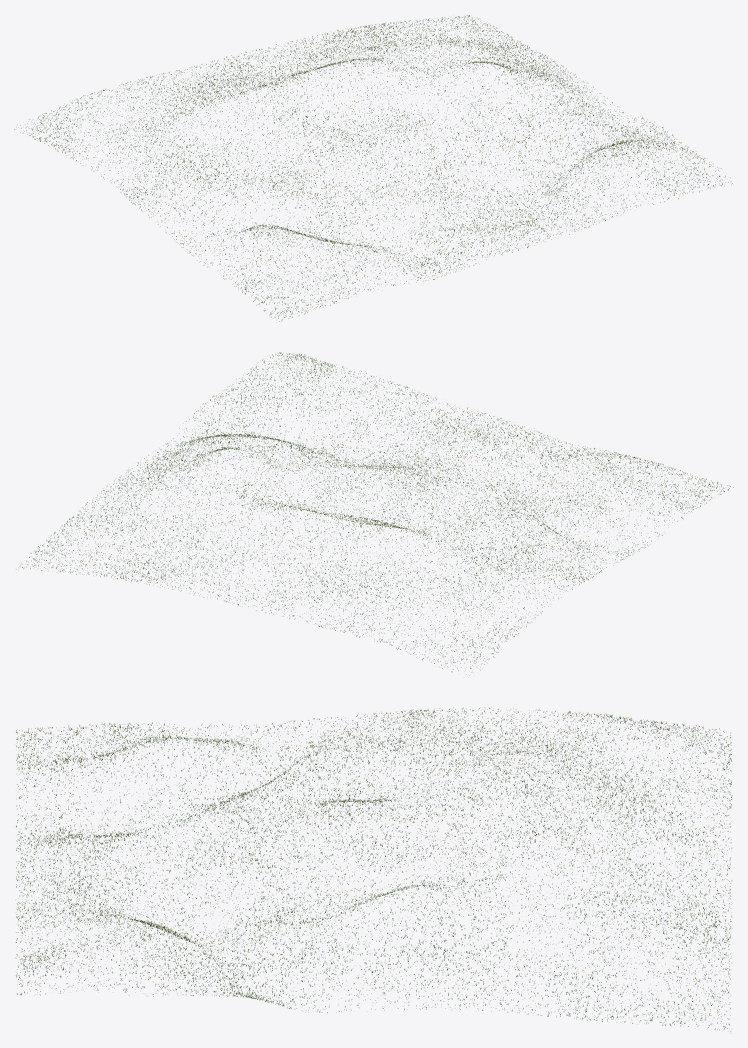
File: grass.glb
The picture shows the model from 3 angles, top to bottom: view 1: azimuth 30°, elevation 25°; view 2: azimuth 150°, elevation 25°; view 3: azimuth 270°, elevation 25°; orthographic projection. The views are drawn at different scales.
Visible parts, largest first — view 1: Grass | meadow 2.4, Grass | meadow 2.2, Grass | meadow 1.3, Grass | meadow 4.2, Grass | meadow 3.1, Grass | meadow 1.1, Grass | meadow 1.4, Grass | meadow 3.4, Grass | meadow 4.4, Grass | meadow 3.2, Grass | meadow 4.3, Grass | meadow 1.2 (+4 smaller); view 2: Grass | meadow 2.2, Grass | meadow 4.2, Grass | meadow 3.1, Grass | meadow 3.4, Grass | meadow 1.3, Grass | meadow 4.3, Grass | meadow 4.4, Grass | meadow 1.1, Grass | meadow 1.4, Grass | meadow 1.2, Grass | meadow 2.4, Grass | meadow 3.2 (+4 smaller); view 3: Grass | meadow 2.4, Grass | meadow 2.2, Grass | meadow 4.2, Grass | meadow 3.4, Grass | meadow 3.1, Grass | meadow 1.3, Grass | meadow 4.3, Grass | meadow 4.4, Grass | meadow 1.4, Grass | meadow 1.1, Grass | meadow 3.2, Grass | meadow 2.3 (+4 smaller).
Boxes of the visible parts, x1,y1,x2,y2 form: Grass | meadow 2.4: (491,88,667,178); Grass | meadow 2.2: (259,132,436,238); Grass | meadow 1.3: (442,177,617,252); Grass | meadow 4.2: (125,55,304,111); Grass | meadow 3.1: (78,113,255,211); Grass | meadow 1.1: (220,232,385,321); Grass | meadow 1.4: (558,134,732,212); Grass | meadow 3.4: (424,49,600,94); Grass | meadow 4.4: (358,15,532,53); Grass | meadow 3.2: (200,71,369,171); Grass | meadow 4.3: (241,27,416,72); Grass | meadow 1.2: (330,199,503,285); Grass | meadow 2.2: (376,462,552,532); Grass | meadow 4.2: (248,531,419,636); Grass | meadow 3.1: (423,534,601,617); Grass | meadow 3.4: (82,447,256,509); Grass | meadow 1.3: (330,382,502,461); Grass | meadow 4.3: (131,513,307,606); Grass | meadow 4.4: (16,507,192,580); Grass | meadow 1.1: (558,453,733,526); Grass | meadow 1.4: (212,352,390,440); Grass | meadow 1.2: (441,421,616,500); Grass | meadow 2.4: (148,398,322,457); Grass | meadow 3.2: (311,493,481,567); Grass | meadow 2.4: (195,899,373,1012); Grass | meadow 2.2: (194,771,374,855); Grass | meadow 4.2: (552,758,732,856); Grass | meadow 3.4: (374,884,553,1016); Grass | meadow 3.1: (373,707,552,773); Grass | meadow 1.3: (16,856,195,942); Grass | meadow 4.3: (552,817,731,934); Grass | meadow 4.4: (553,905,731,1031); Grass | meadow 1.4: (15,918,195,996); Grass | meadow 1.1: (16,722,195,796); Grass | meadow 3.2: (374,751,553,836); Grass | meadow 2.3: (195,829,373,943).
Size of the model in its own units: 100 by 12.31 by 100.
